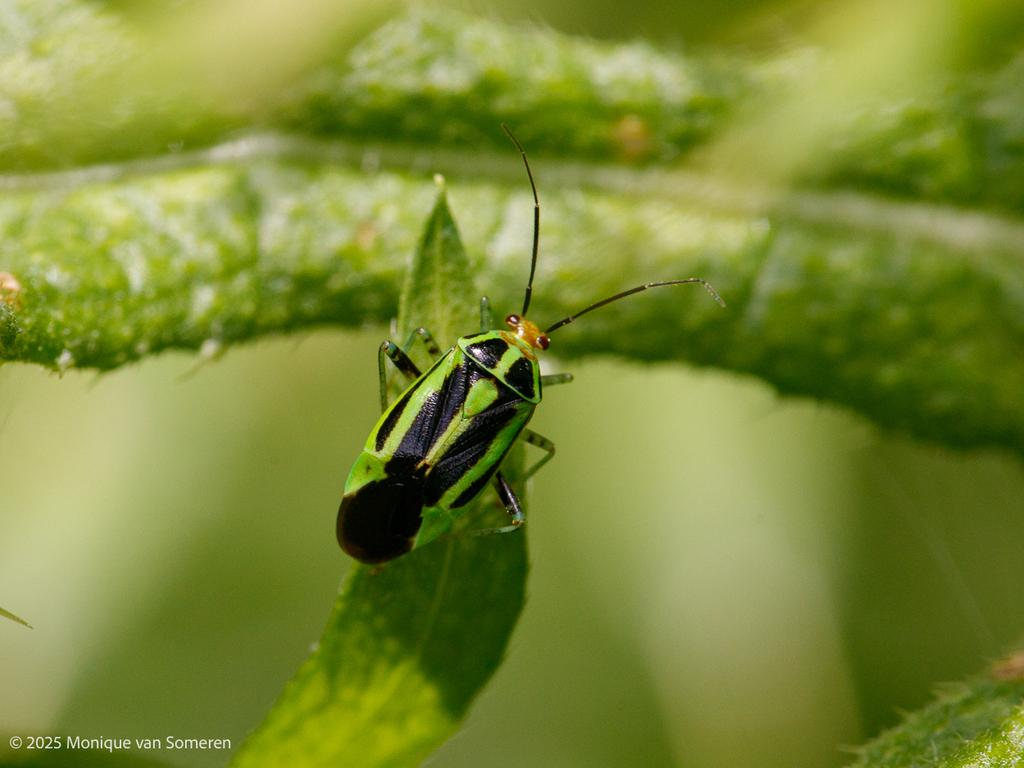plant_bugs: (289, 99, 742, 618)
